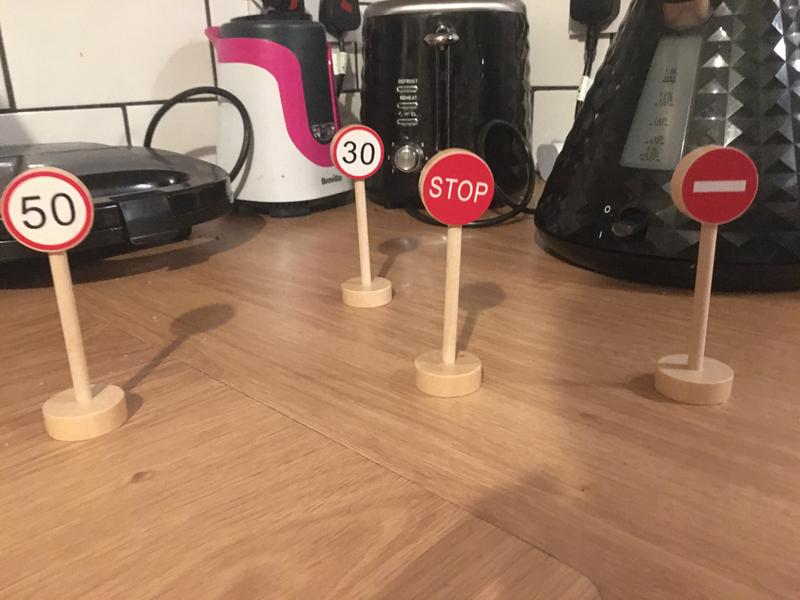Traffic_Sign_30: (332, 127, 383, 175)
Traffic_Sign_50: (1, 172, 92, 250)
Traffic_Sign_No_Entry: (682, 147, 759, 224)
Traffic_Sign_Stop: (422, 153, 493, 223)
